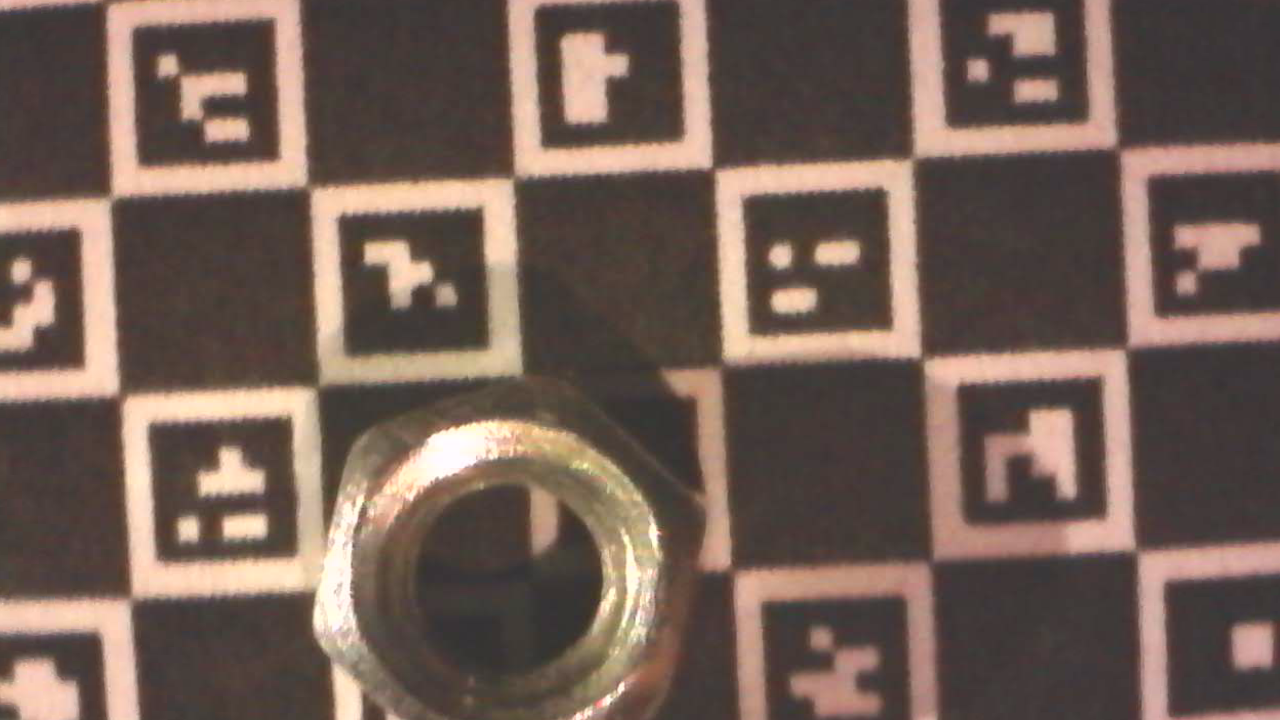Bolt: (306, 370, 706, 719)
